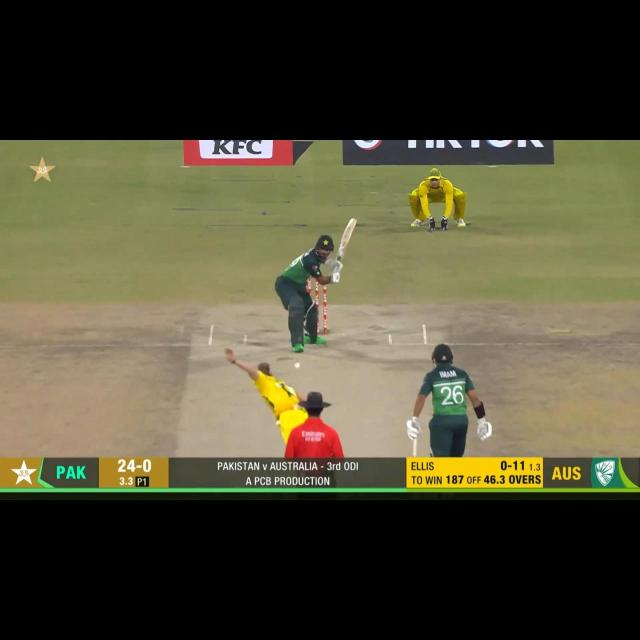bat: (335, 216, 358, 262)
toe: (346, 217, 358, 229)
